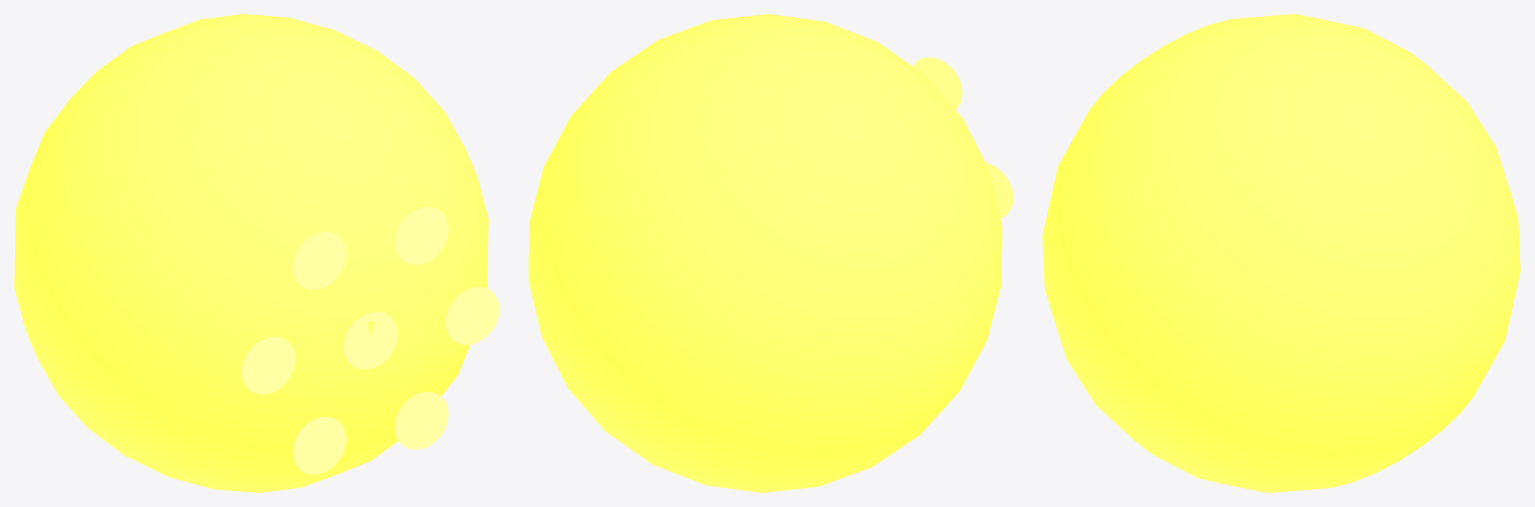
File: ball-7.glb
The picture shows the model from 3 angles, left to right: view 1: azimuth 30°, elevation 25°; view 2: azimuth 150°, elevation 25°; view 3: azimuth 270°, elevation 25°; orthographic projection.
Visible parts, largest first — view 1: BallGlow, LogosGlow; view 2: BallGlow, LogosGlow; view 3: BallGlow.
Boxes of the visible parts, x1=… form: BallGlow: x1=14, y1=14, x2=488, y2=492; LogosGlow: x1=241, y1=207, x2=499, y2=474; BallGlow: x1=528, y1=14, x2=1002, y2=492; LogosGlow: x1=913, y1=57, x2=1013, y2=218; BallGlow: x1=1042, y1=14, x2=1520, y2=492.
Bounding box in the file's own units: 0.333 × 0.3376 × 0.3368.
